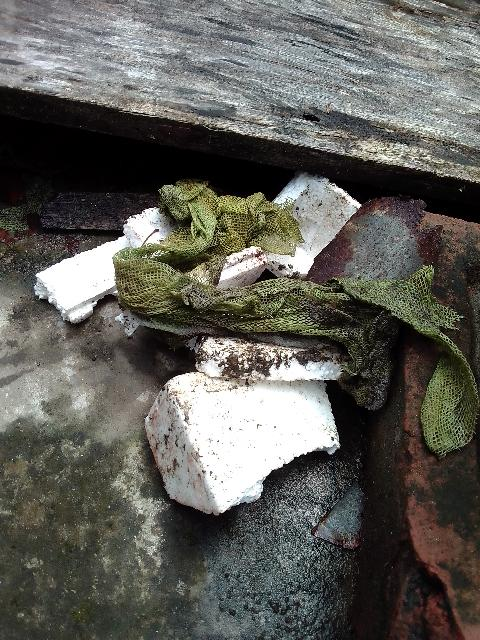cocksheet: (151, 336, 344, 521), (29, 224, 128, 320)
